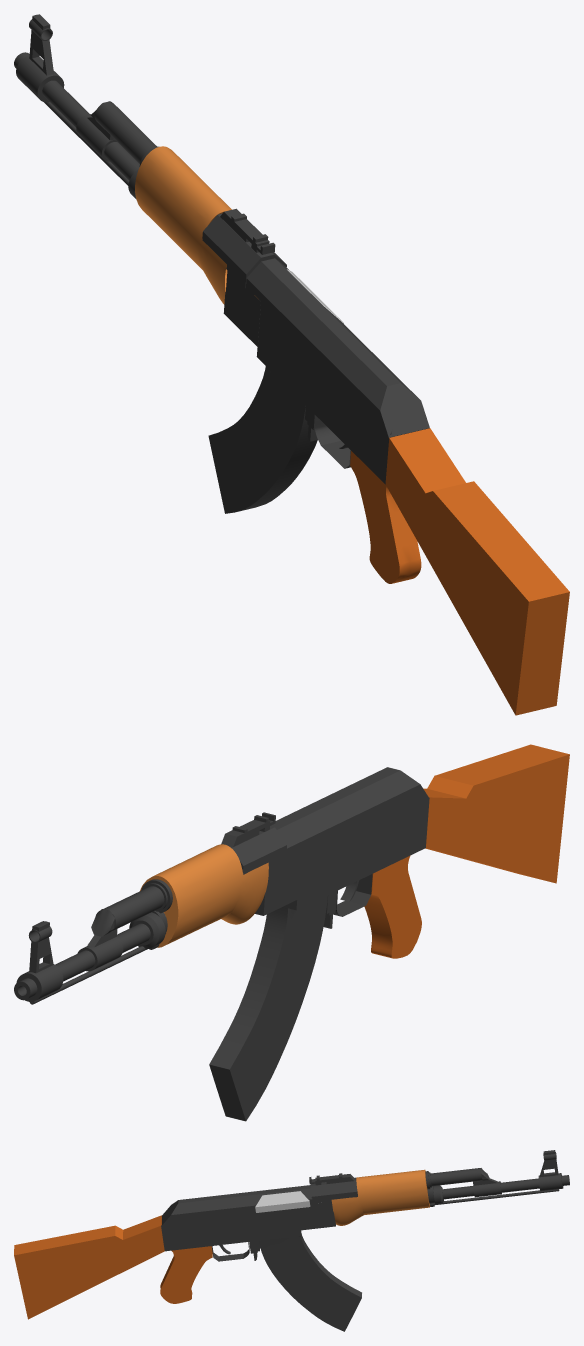
The picture shows the model from 3 angles, top to bottom: view 1: azimuth 30°, elevation 25°; view 2: azimuth 150°, elevation 25°; view 3: azimuth 270°, elevation 25°; orthographic projection. The views are drawn at different scales.
Visible parts, largest first — view 1: Stock002, Obj011, Magazin012, Forearm007, Barrel 004, Pistol 003, Receive010, Gas tub008, Trigger009; view 2: Stock002, Obj011, Magazin012, Forearm007, Barrel 004, Pistol 003, Receive010, Gas tub008, Trigger009; view 3: Stock002, Obj011, Magazin012, Forearm007, Barrel 004, Pistol 003, Receive010, Ejector001, Gas tub008, Trigger009.
Part boxes in pixels (bbox=[...]): Stock002: bbox=[385, 428, 569, 715]; Obj011: bbox=[223, 258, 429, 484]; Magazin012: bbox=[208, 366, 317, 513]; Forearm007: bbox=[135, 146, 258, 304]; Barrel 004: bbox=[14, 14, 139, 198]; Pistol 003: bbox=[350, 451, 421, 583]; Receive010: bbox=[202, 208, 286, 287]; Gas tub008: bbox=[91, 101, 158, 166]; Trigger009: bbox=[315, 416, 350, 468]; Stock002: bbox=[423, 744, 569, 883]; Obj011: bbox=[255, 767, 429, 928]; Magazin012: bbox=[209, 895, 327, 1121]; Forearm007: bbox=[140, 844, 268, 947]; Barrel 004: bbox=[14, 911, 167, 1004]; Pistol 003: bbox=[364, 855, 421, 958]; Receive010: bbox=[221, 812, 286, 874]; Gas tub008: bbox=[91, 879, 172, 936]; Trigger009: bbox=[333, 874, 372, 916]; Stock002: bbox=[14, 1215, 164, 1319]; Obj011: bbox=[161, 1185, 335, 1260]; Magazin012: bbox=[259, 1233, 361, 1331]; Forearm007: bbox=[331, 1169, 430, 1225]; Barrel 004: bbox=[427, 1150, 569, 1206]; Pistol 003: bbox=[160, 1246, 212, 1303]; Receive010: bbox=[309, 1173, 357, 1203]; Ejector001: bbox=[255, 1191, 310, 1212]; Gas tub008: bbox=[425, 1168, 489, 1189]; Trigger009: bbox=[211, 1242, 249, 1261].
Size of the model in its own units: 3.62 by 24.26 by 68.14.
